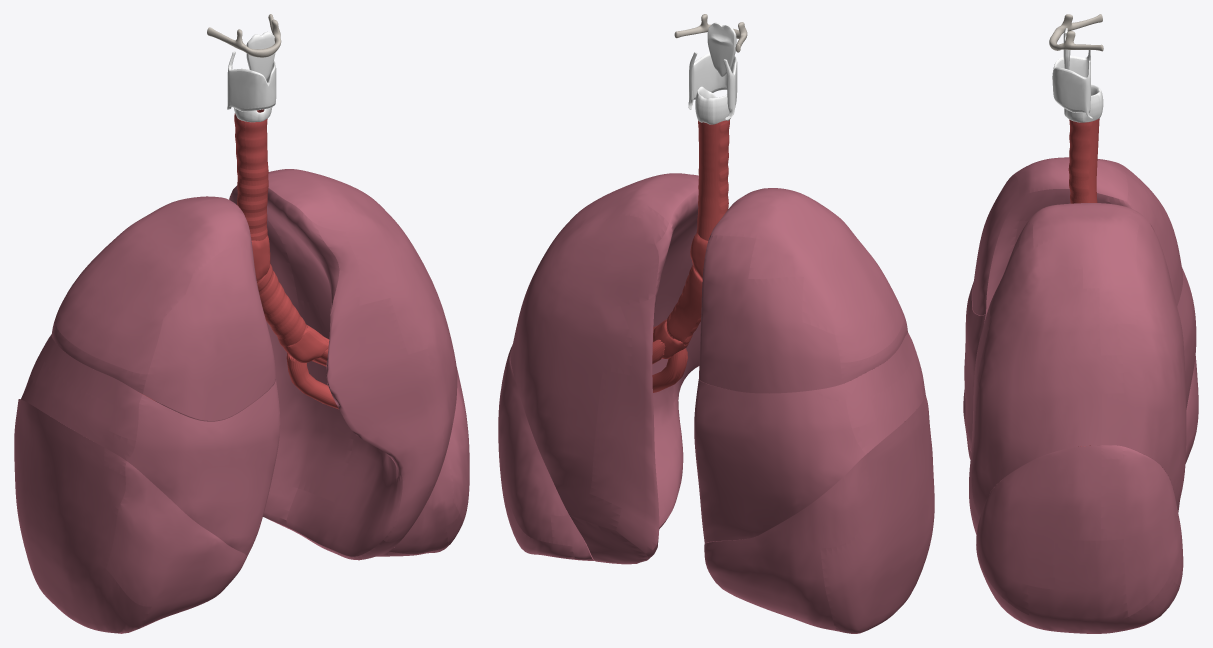
Rendered from human_lungs_trachea_larynx_hyoid_bone.glb.
3 views of the same model, side by side, from view 1: azimuth 30°, elevation 25°; view 2: azimuth 150°, elevation 25°; view 3: azimuth 270°, elevation 25° (orthographic). The views are drawn at different scales.
Parts seen in each view (by area): view 1: 3DSMeshMatrix (×5); view 2: 3DSMeshMatrix (×4); view 3: 3DSMeshMatrix (×5).
Boxes of the visible parts, left/top/right/bottom form: 3DSMeshMatrix (×5): left=14, top=14, right=469, bottom=633; 3DSMeshMatrix (×4): left=498, top=22, right=934, bottom=633; 3DSMeshMatrix (×5): left=963, top=14, right=1198, bottom=633.
Bounding box in the file's own units: 162 × 217 × 86.66.
